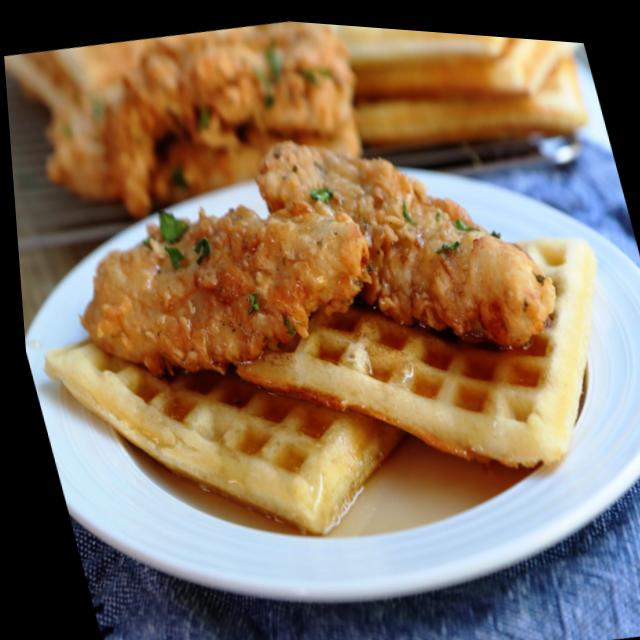chicken waffle: (5, 69, 640, 601)
